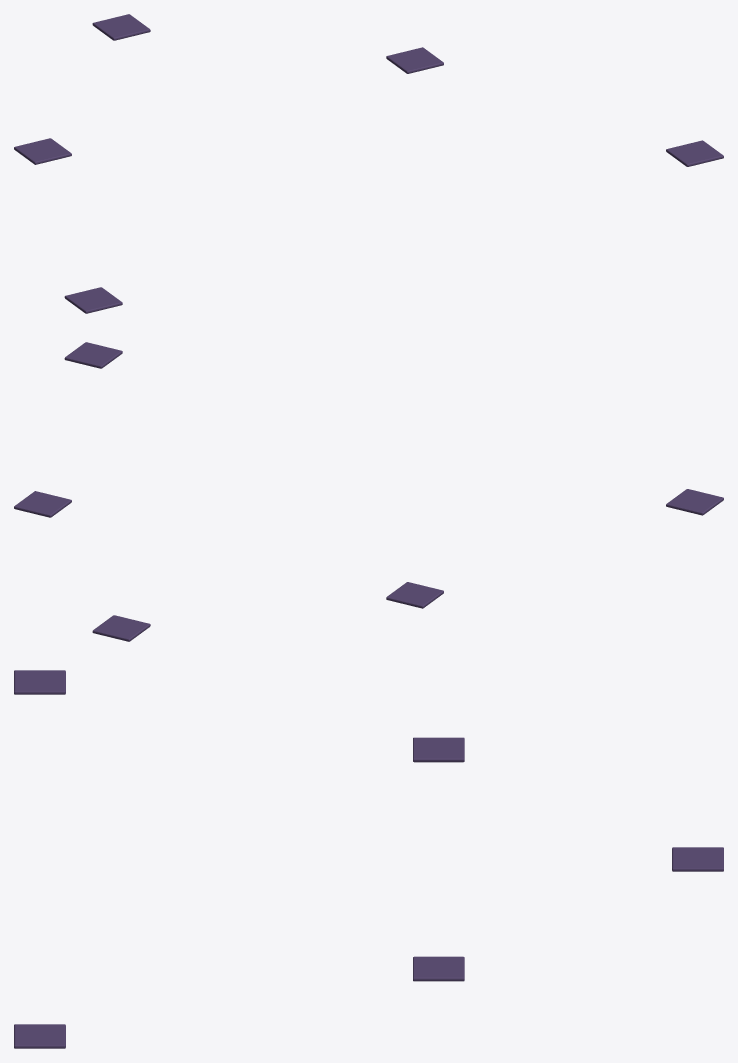
File: EggPedestals_StageTrim.fbx
3 renders of one model, top to bottom at view 1: azimuth 30°, elevation 25°; view 2: azimuth 150°, elevation 25°; view 3: azimuth 270°, elevation 25°, orthographic. The views are drawn at different scales.
Parts seen in each view (by area): view 1: PedestalTop0.001; view 2: PedestalTop0.001; view 3: PedestalTop0.001.
Boxes of the visible parts, box(x1,y1,x2,y2) form: PedestalTop0.001: box(14, 14, 723, 313); PedestalTop0.001: box(14, 342, 723, 641); PedestalTop0.001: box(14, 670, 723, 1048).
Bounding box in the file's own units: 8920 × 40 × 7120.
